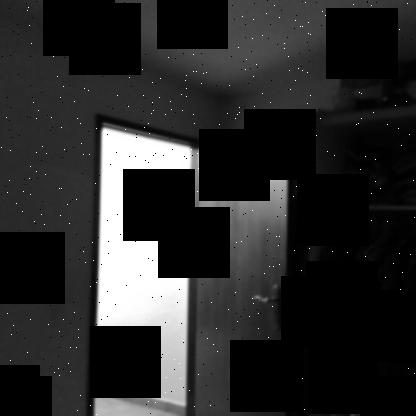Porte: (84, 114, 295, 416)
